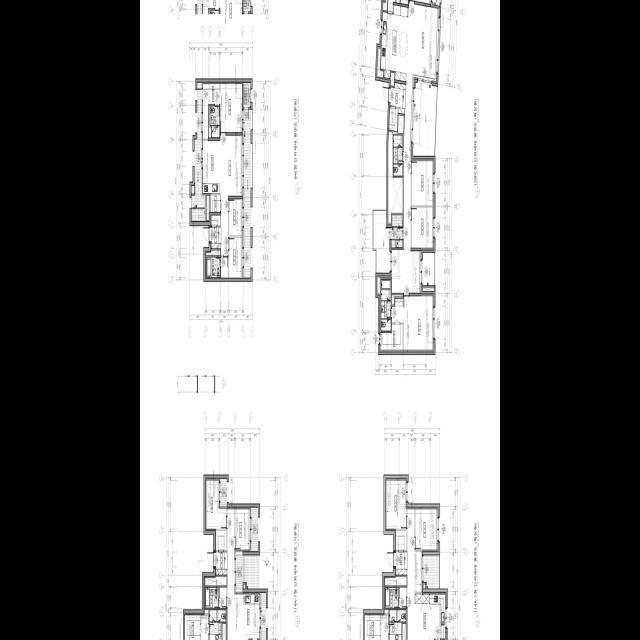background: (140, 0, 500, 640)
space_balconi: (191, 82, 205, 220), (413, 82, 437, 155), (244, 109, 251, 277), (374, 210, 389, 272), (424, 555, 439, 588), (244, 555, 259, 588), (391, 215, 403, 247), (423, 252, 434, 285), (251, 507, 258, 551), (236, 554, 243, 588), (220, 478, 227, 504)
space_bedroom: (392, 293, 434, 351), (220, 82, 243, 132), (386, 478, 407, 530), (206, 478, 226, 530), (412, 158, 434, 205), (415, 507, 438, 551), (412, 207, 434, 250), (235, 507, 251, 551), (229, 237, 243, 277), (229, 198, 243, 235)
space_dressroom: (202, 82, 220, 138), (380, 324, 403, 351), (365, 613, 380, 640), (185, 613, 200, 640)
space_front: (390, 82, 406, 114), (209, 215, 220, 248), (394, 551, 407, 575), (214, 550, 227, 574)
space_kitchen: (381, 4, 408, 81), (415, 592, 446, 639), (235, 592, 260, 640), (202, 140, 220, 195)
space_living_room: (391, 2, 440, 292), (407, 507, 434, 640), (227, 507, 249, 640), (220, 135, 243, 255)
space_other: (388, 131, 403, 224), (415, 551, 423, 592), (215, 530, 226, 550), (395, 530, 406, 550), (389, 107, 398, 131), (205, 576, 227, 585), (385, 576, 406, 585), (377, 48, 383, 77), (210, 195, 220, 211), (220, 587, 227, 607), (221, 257, 228, 277), (400, 587, 406, 607), (398, 114, 404, 133), (392, 294, 403, 304), (205, 250, 220, 255), (222, 623, 226, 640), (209, 105, 211, 137), (377, 275, 380, 294), (391, 72, 395, 85), (207, 195, 209, 221), (423, 287, 434, 291), (383, 0, 387, 10), (191, 185, 194, 193), (204, 609, 209, 613), (384, 609, 389, 613), (244, 584, 245, 588), (424, 584, 425, 588)
space_outdoor_room: (243, 82, 251, 107)
space_toilet: (389, 610, 406, 640), (381, 279, 391, 330), (210, 609, 226, 640), (394, 135, 403, 175), (385, 587, 399, 607), (205, 587, 219, 607), (210, 106, 219, 137), (207, 257, 220, 277)
